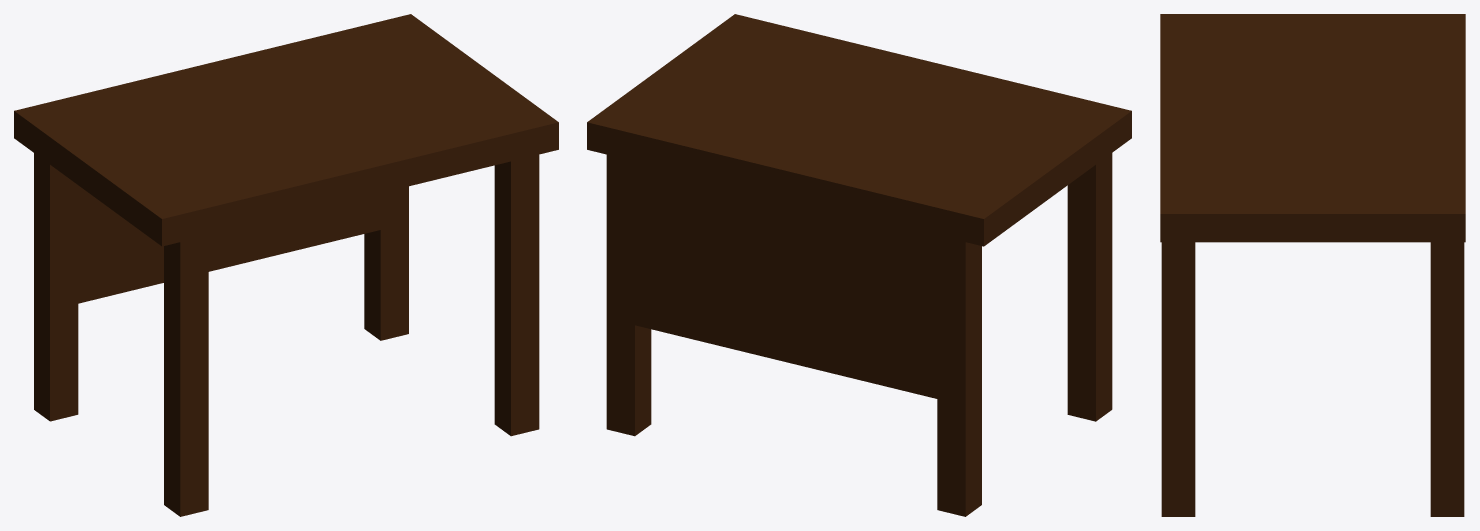
File: school_desk2.obj
3 renders of one model, left to right at view 1: azimuth 30°, elevation 25°; view 2: azimuth 150°, elevation 25°; view 3: azimuth 270°, elevation 25°, orthographic. The views are drawn at different scales.
Visible parts, largest first — view 1: Cube, 立方体.004, 立方体, 立方体.001, 立方体.003, 立方体.002; view 2: Cube, 立方体.004, 立方体.003, 立方体.001, 立方体.002; view 3: Cube, 立方体, 立方体.002.
Part boxes in pixels (bbox=[...]): Cube: bbox=[14, 14, 558, 246]; 立方体.004: bbox=[52, 167, 406, 309]; 立方体: bbox=[494, 154, 539, 436]; 立方体.001: bbox=[164, 235, 208, 516]; 立方体.003: bbox=[34, 153, 78, 421]; 立方体.002: bbox=[364, 186, 408, 340]; Cube: bbox=[587, 14, 1131, 246]; 立方体.004: bbox=[609, 155, 963, 404]; 立方体.003: bbox=[937, 235, 981, 516]; 立方体.001: bbox=[1067, 153, 1112, 421]; 立方体.002: bbox=[606, 154, 651, 436]; Cube: bbox=[1160, 14, 1465, 242]; 立方体: bbox=[1161, 242, 1195, 516]; 立方体.002: bbox=[1430, 242, 1464, 516].
Bounding box in the file's own units: 5.96 × 4.35 × 3.85.
